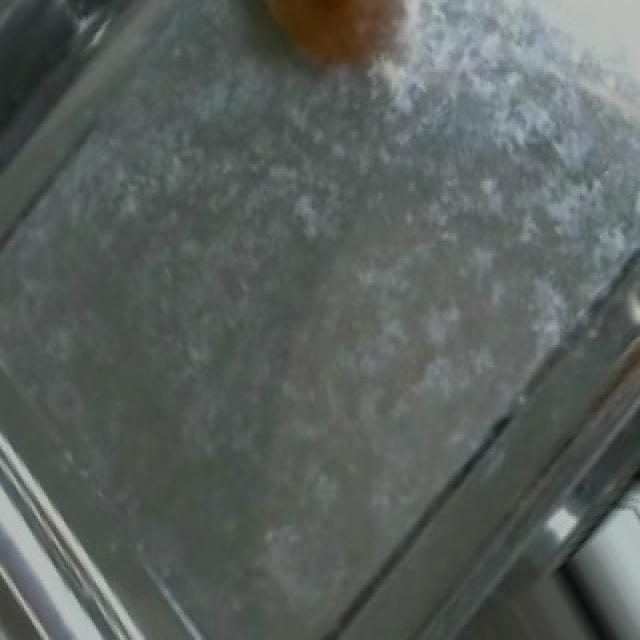Fruit: (222, 3, 436, 109)
